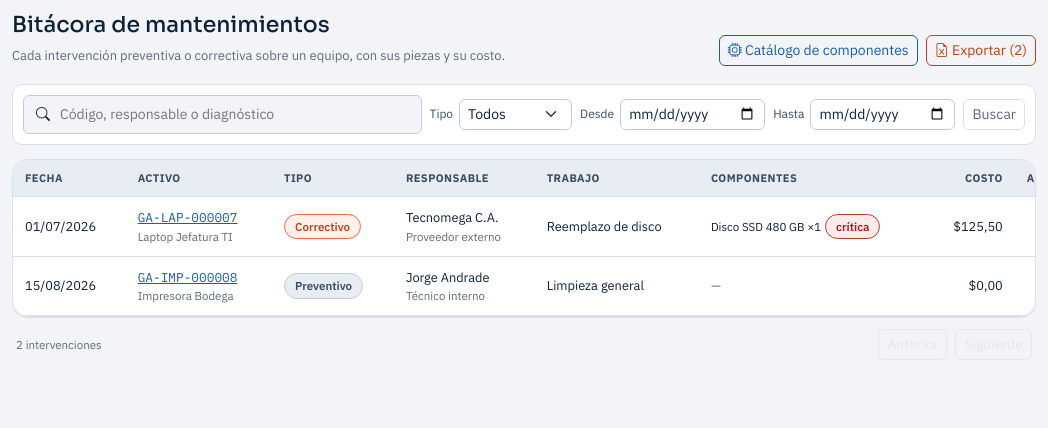
Test: Quién puede tocar la bitácora › si la exportación falla, lo dice
The image size is (1048, 428).
Click the button "Exportar (2)". click: (981, 50)
box: [926,35,1036,66]
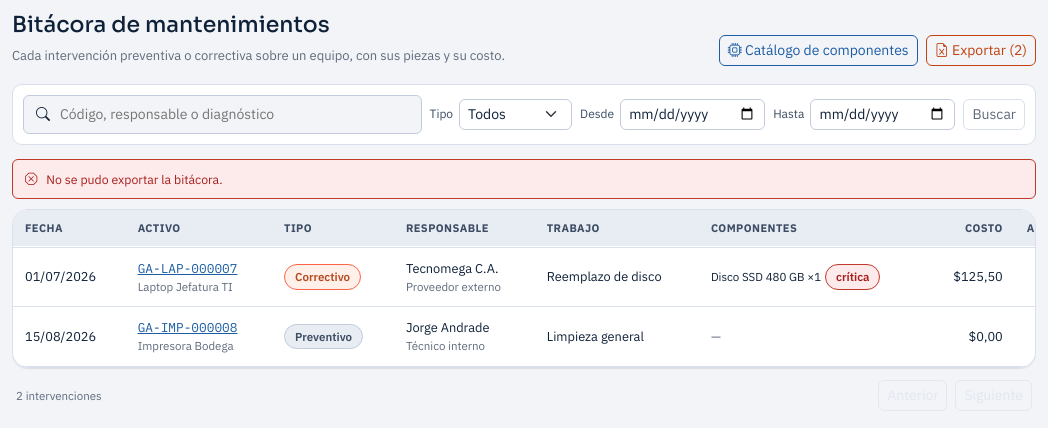
expect the text "No se pudo exportar la bitácora." is shown: met, box [12,159,1036,199]
